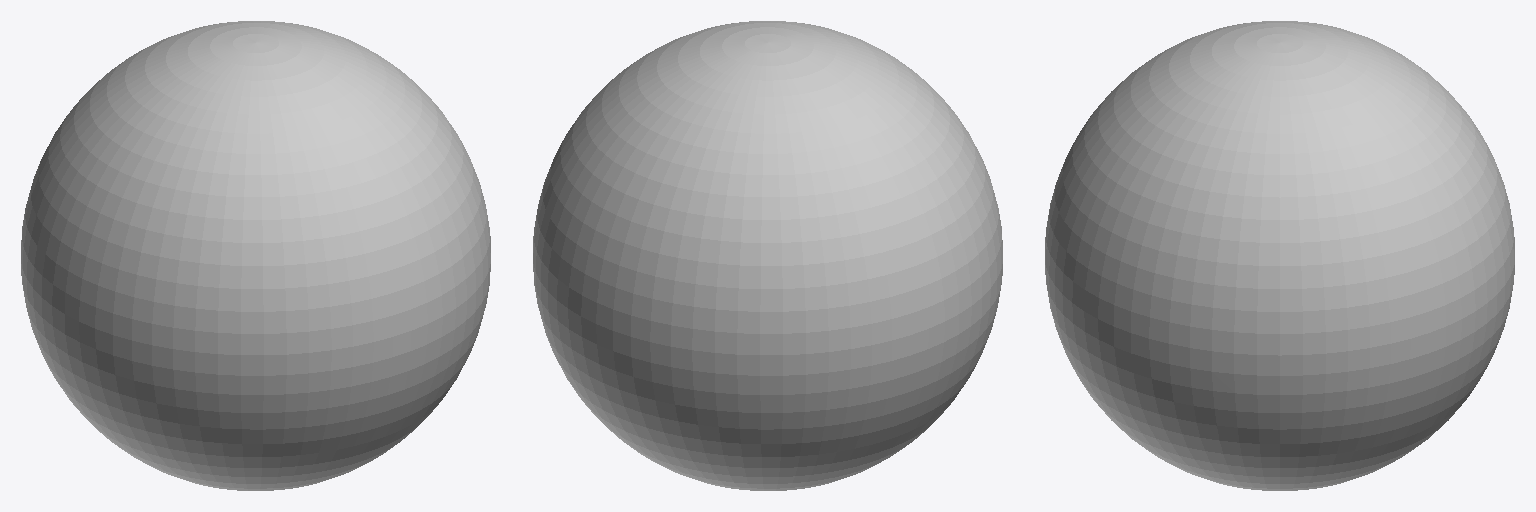
The model's file is mars.obj.
3 renders of one model, left to right at view 1: azimuth 30°, elevation 25°; view 2: azimuth 150°, elevation 25°; view 3: azimuth 270°, elevation 25°, orthographic.
Visible parts, largest first — view 1: Mercury; view 2: Mercury; view 3: Mercury.
Boxes of the visible parts, <box> form: Mercury: <box>21,21,490,490</box>; Mercury: <box>533,21,1002,490</box>; Mercury: <box>1045,21,1514,490</box>.
Bounding box in the file's own units: 2 × 2 × 2.